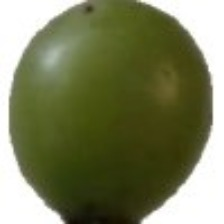grapes: (32, 56, 181, 198)
